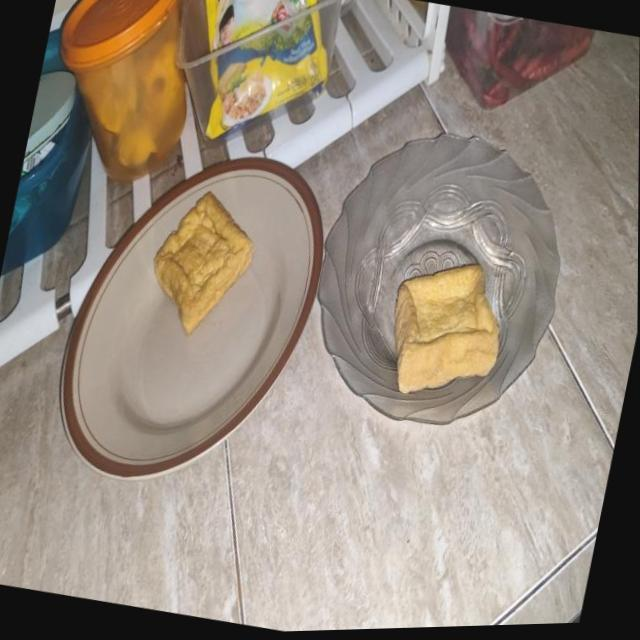tahu_goreng: (154, 192, 253, 336), (394, 264, 498, 393)
